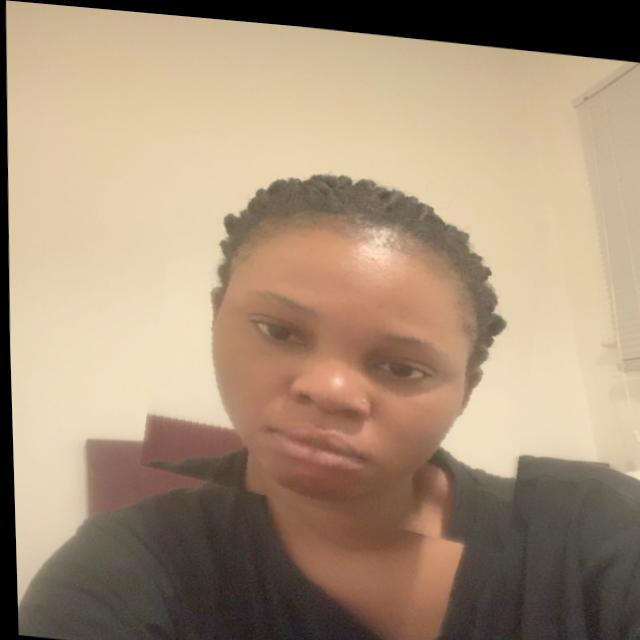sad: (139, 137, 545, 537)
